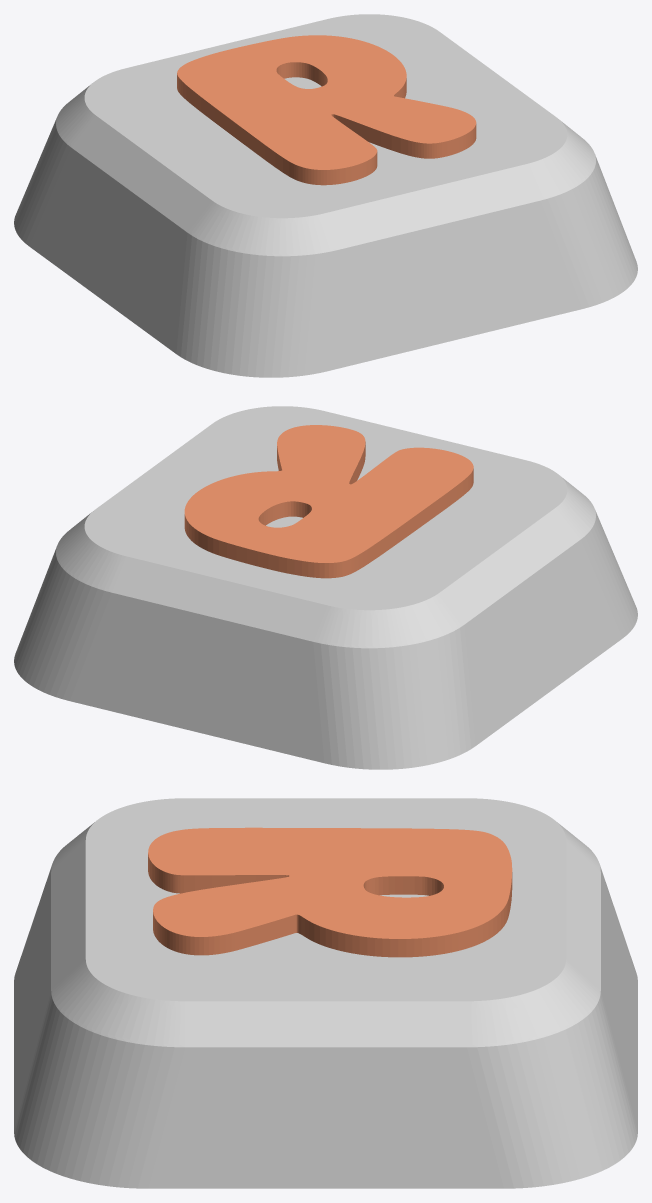
The model's file is cap-R.glb.
3 renders of one model, top to bottom at view 1: azimuth 30°, elevation 25°; view 2: azimuth 150°, elevation 25°; view 3: azimuth 270°, elevation 25°, orthographic. The views are drawn at different scales.
Visible parts, largest first — view 1: cap_0, glyph_1; view 2: cap_0, glyph_1; view 3: cap_0, glyph_1.
Part boxes in pixels (x1,y1,x2,y2): cap_0: (14,14,637,377); glyph_1: (177,35,476,185); cap_0: (14,406,637,769); glyph_1: (184,425,473,578); cap_0: (14,798,637,1188); glyph_1: (148,827,512,957).
Bounding box in the file's own units: 18 × 5.59 × 18.
